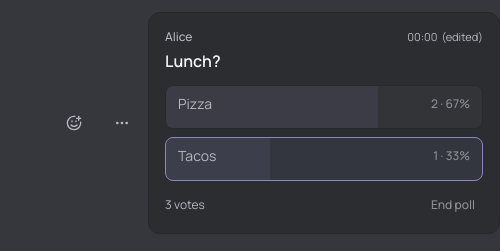
Test case: PollMessage › marks edited poll content without offering unsupported message actions
The width and height of the screenshot is (500, 251).
Expected: the text "(edited)" is shown, [441, 29, 483, 44]
Press the mouse on the button named "More actions" at (122, 123), box [100, 101, 144, 145]
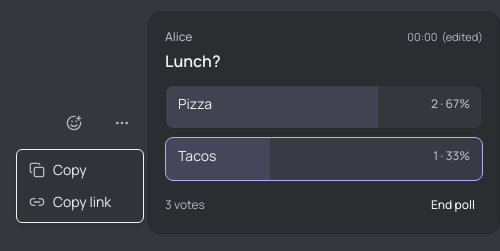
Expected: the menu item "Copy" is shown, [29, 160, 87, 179]
